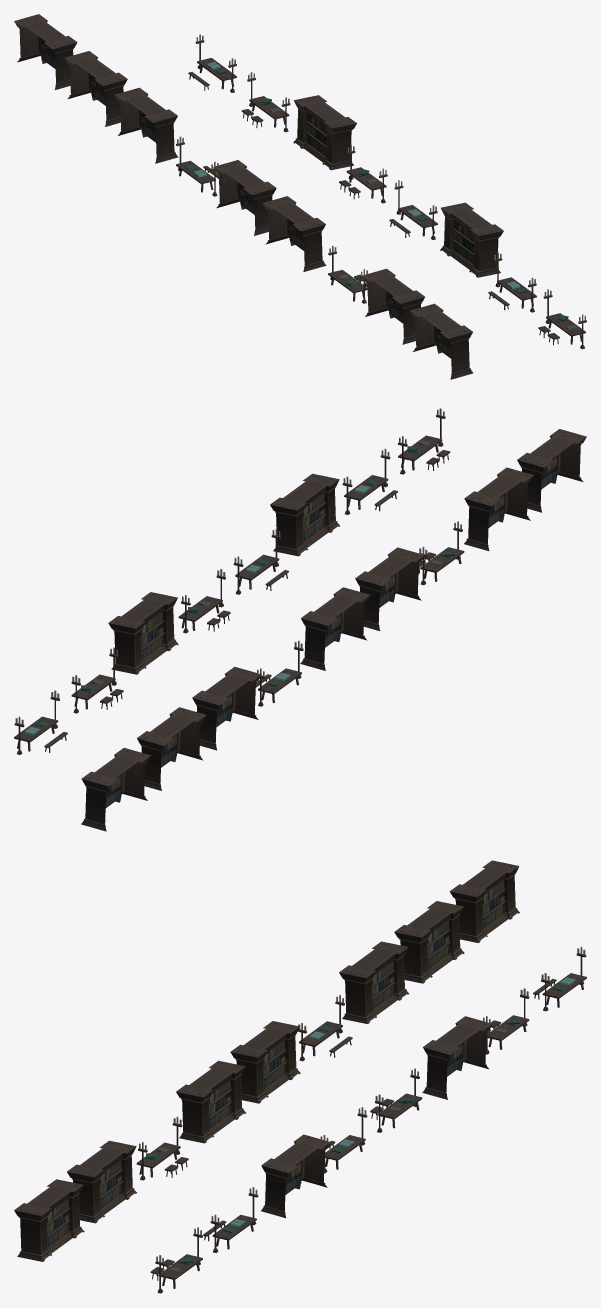
Rendered from wujian08.fbx.
The picture shows the model from 3 angles, top to bottom: view 1: azimuth 30°, elevation 25°; view 2: azimuth 150°, elevation 25°; view 3: azimuth 330°, elevation 25°; orthographic projection. The views are drawn at different scales.
Parts seen in each view (by area): view 1: wujian08; view 2: wujian08; view 3: wujian08.
Boxes of the visible parts, x1,y1,x2,y2 form: wujian08: (14, 14, 586, 379); wujian08: (14, 408, 586, 831); wujian08: (14, 860, 586, 1293).
Size of the model in its own units: 1639 by 441 by 8105.
1 material, 1 textured.
